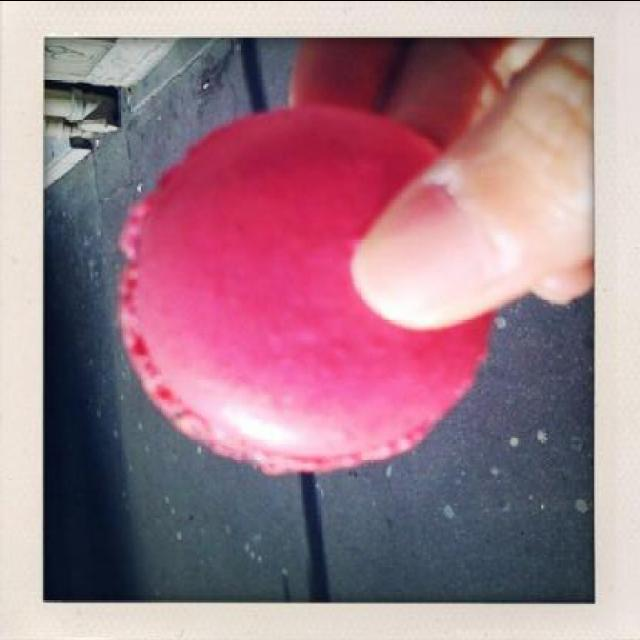Macaron: (107, 83, 516, 486)
